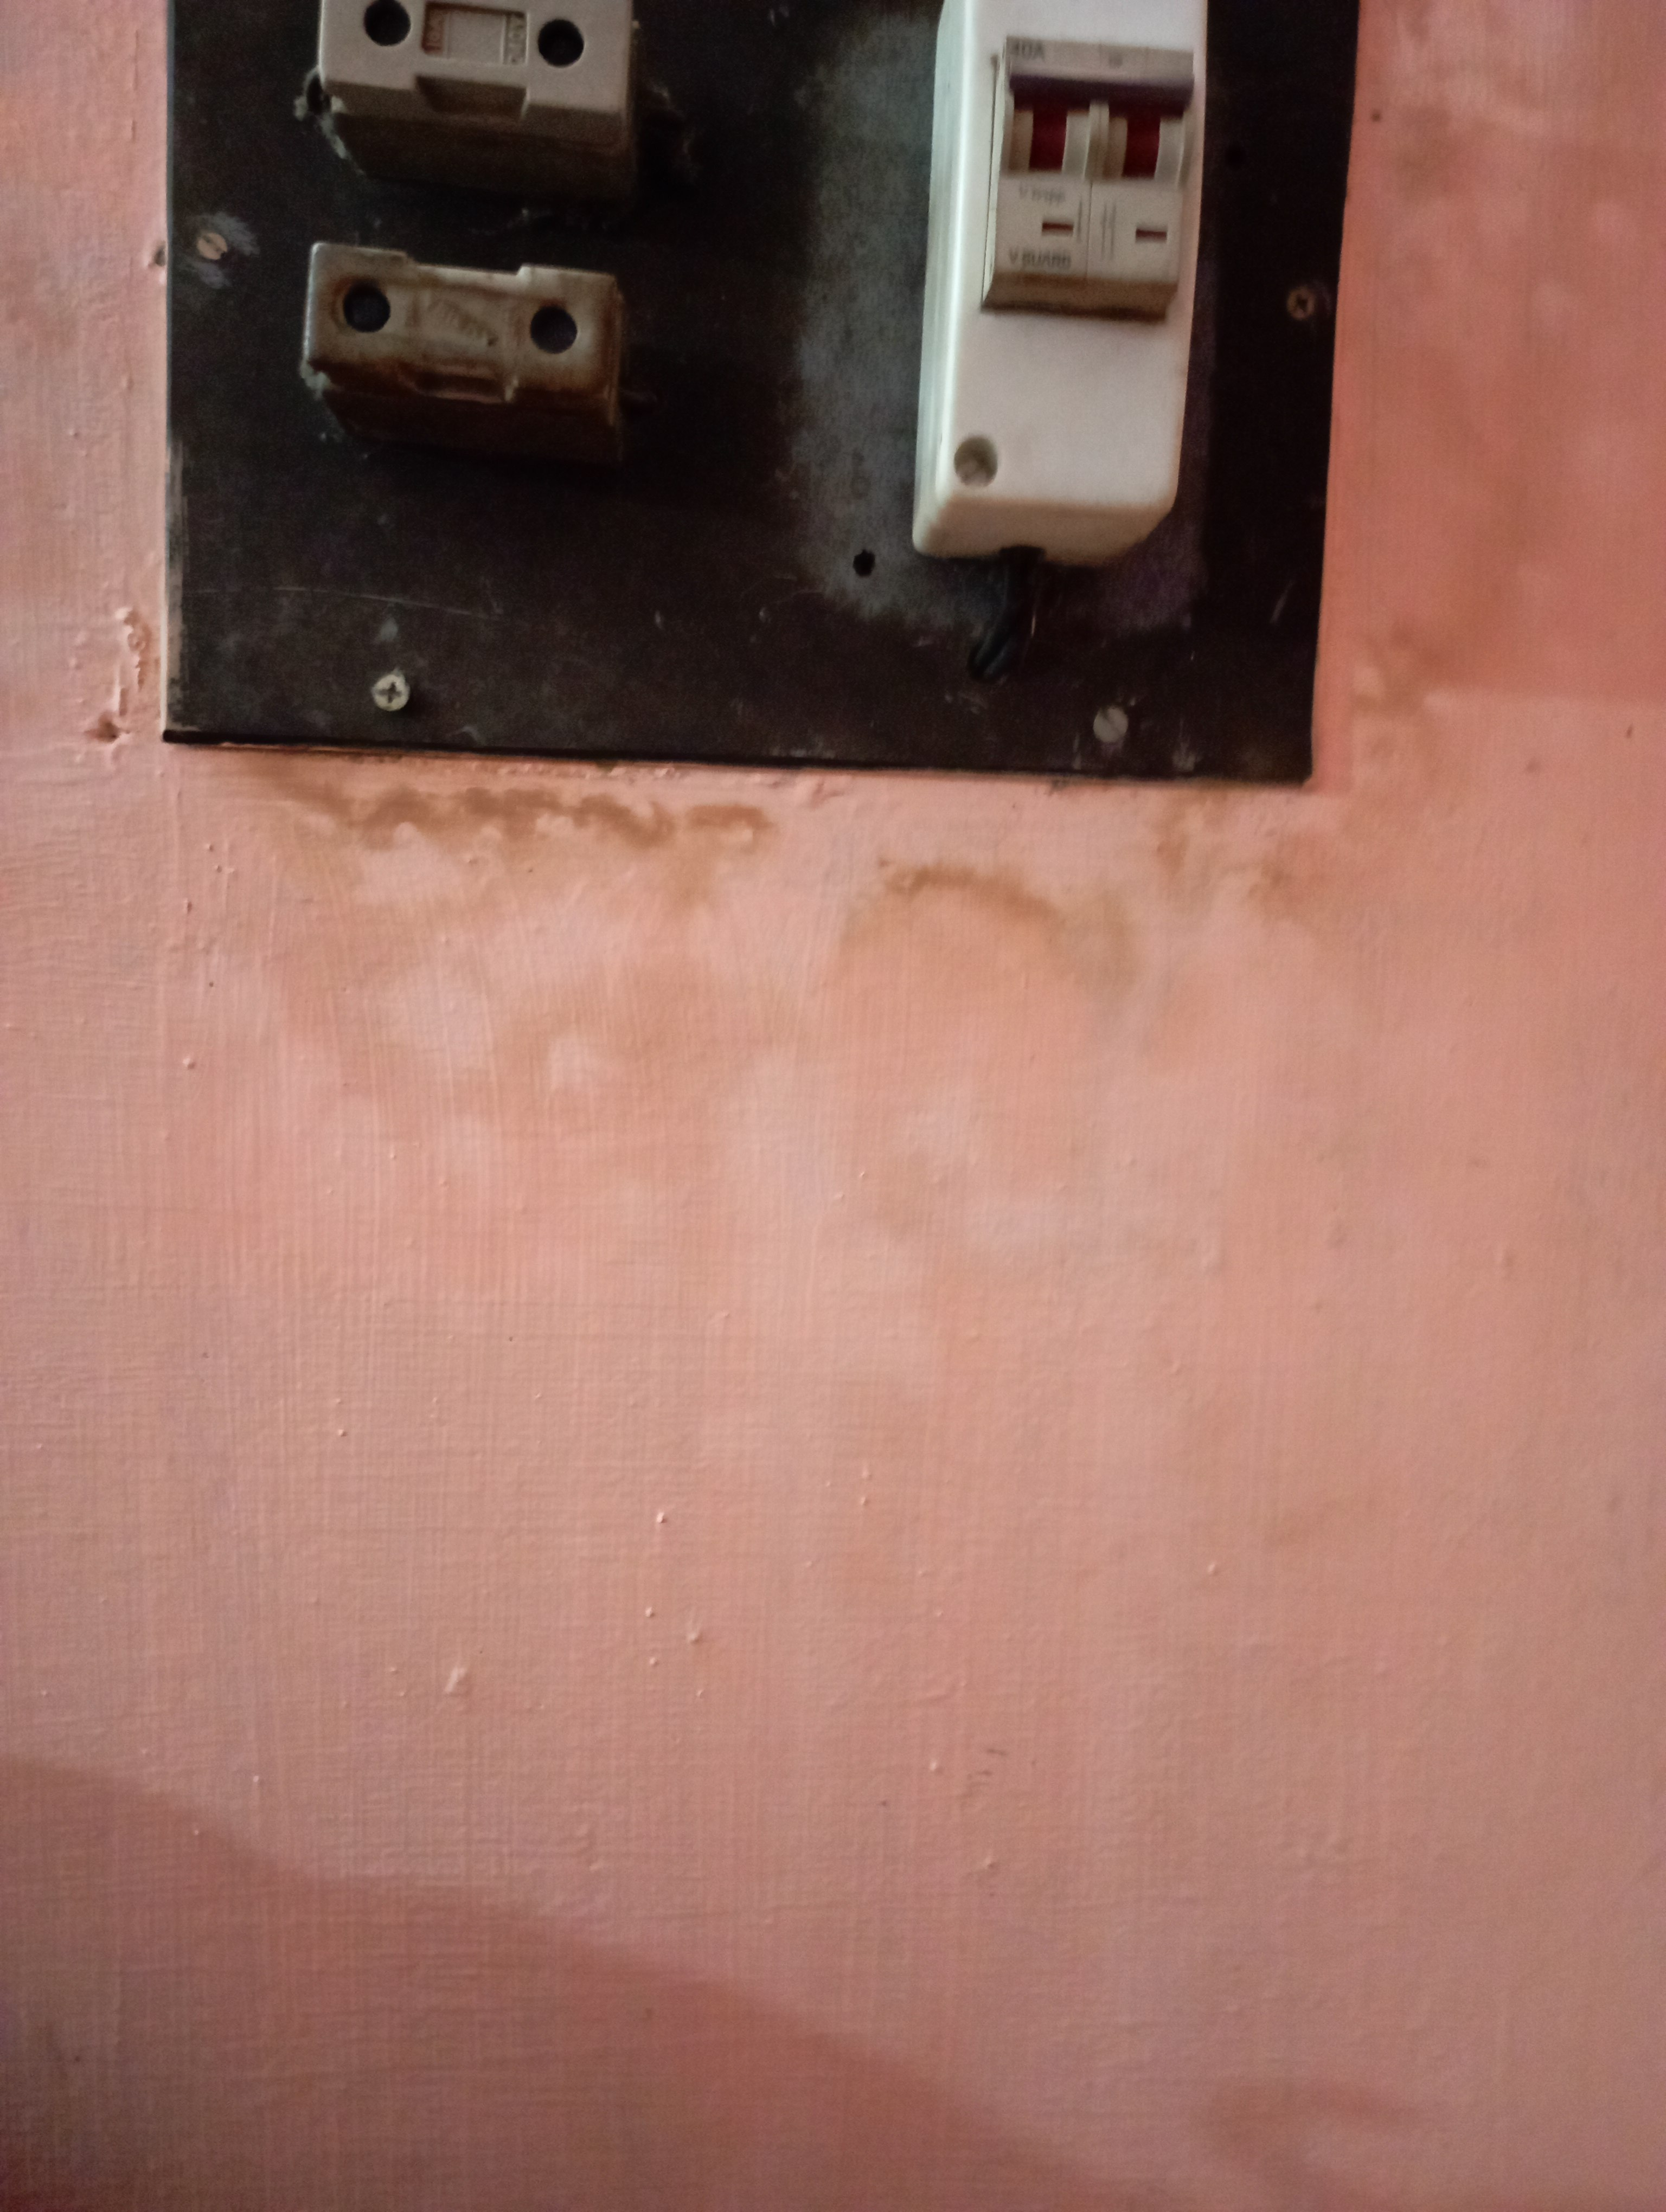ciruit_breaker: (865, 0, 1230, 577)
fuse: (278, 252, 653, 437), (291, 0, 653, 177)
